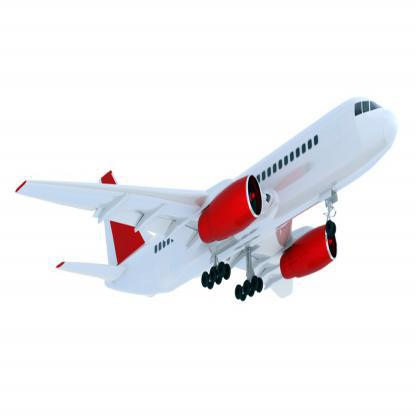CIV_Plane: (13, 94, 401, 305)
